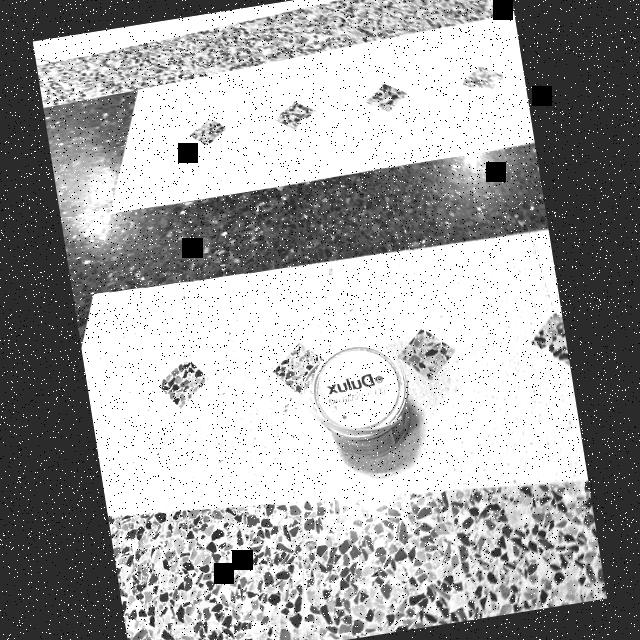paint_bucket: (293, 336, 421, 479)
